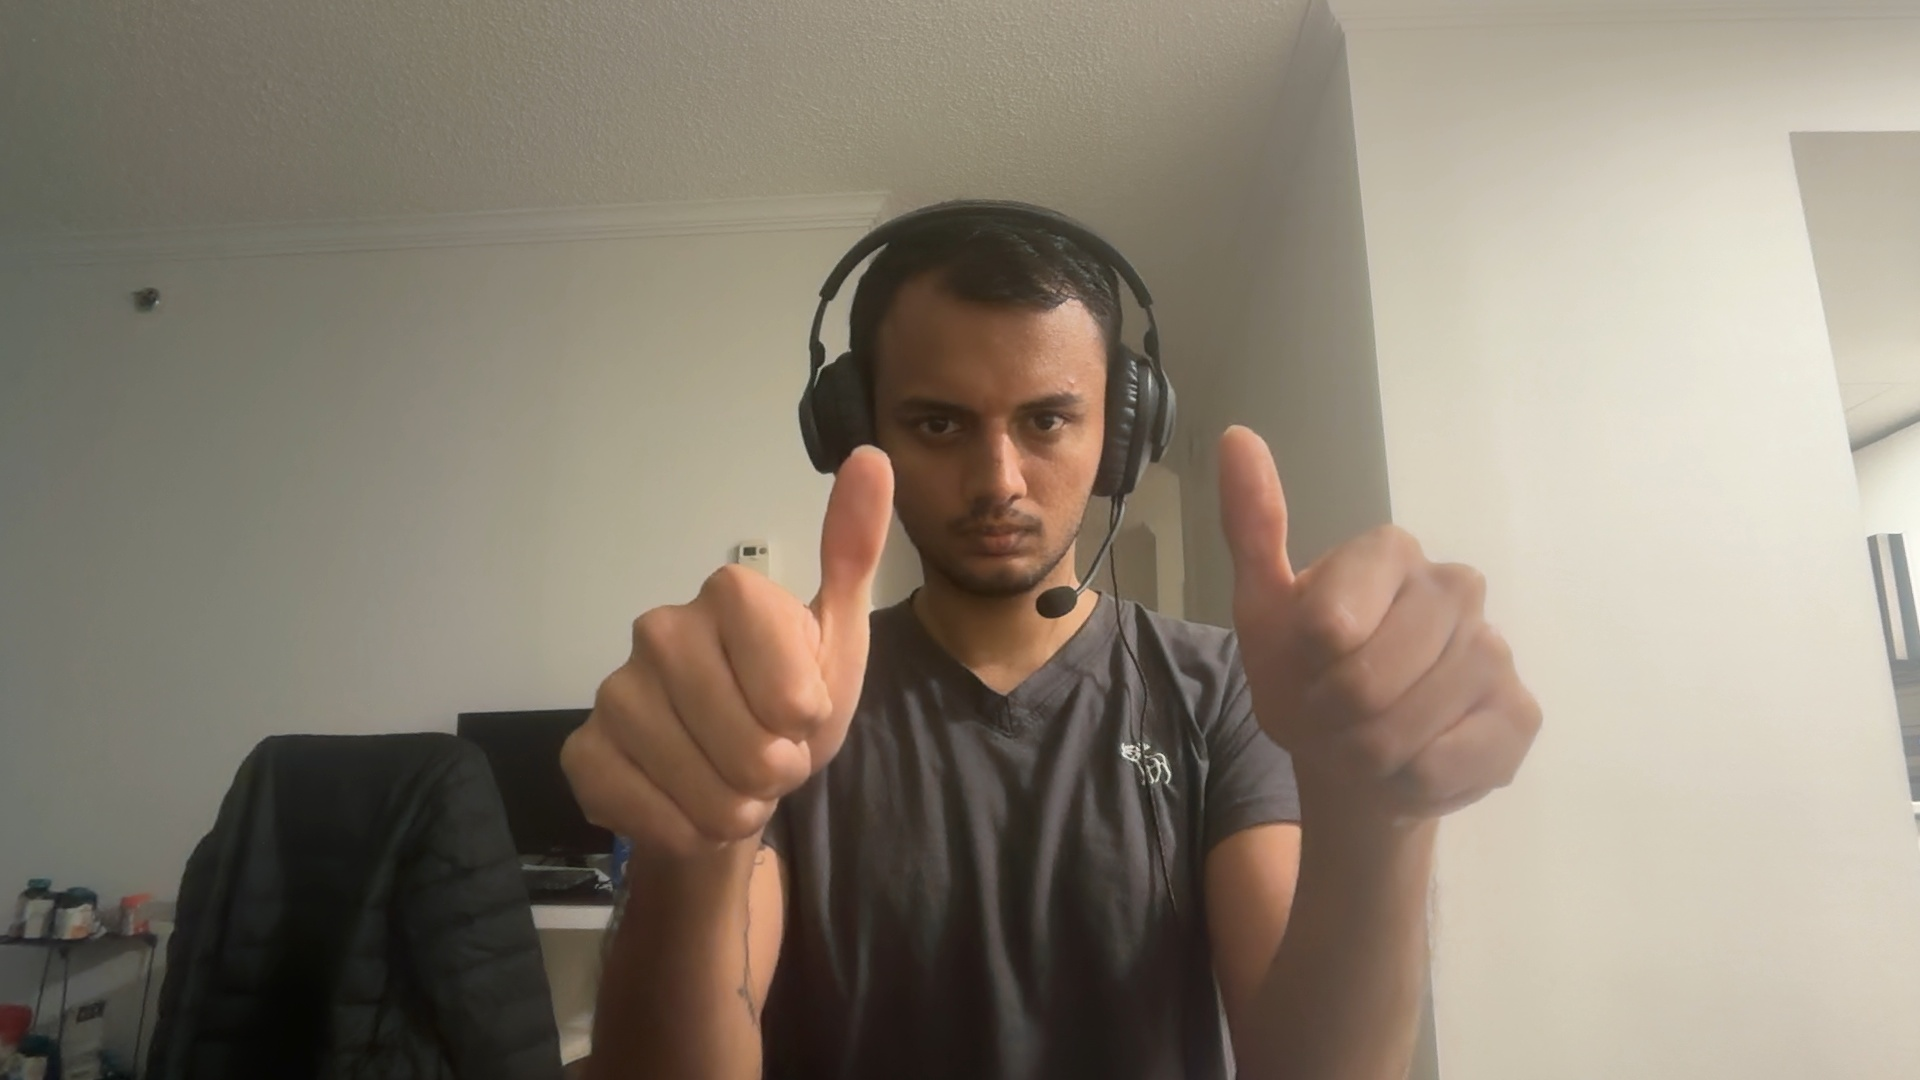thumbsup: (556, 444, 905, 858), (1215, 423, 1543, 831)
